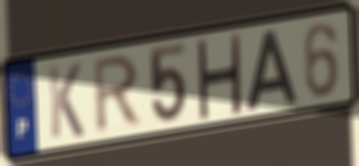5: (146, 43, 189, 127)
6: (301, 20, 342, 100)
A: (244, 26, 300, 113)
H: (194, 33, 243, 120)
K: (46, 60, 86, 142)
R: (93, 51, 145, 138)
